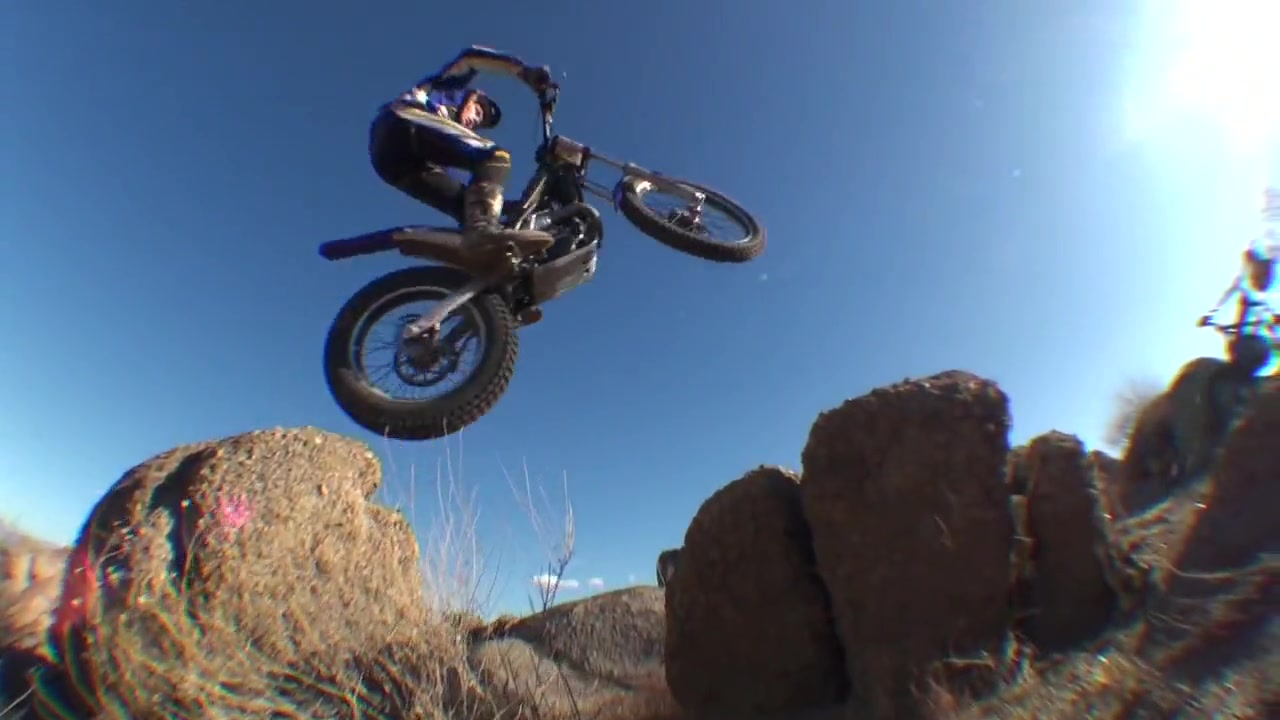motorbike: (315, 72, 771, 449)
